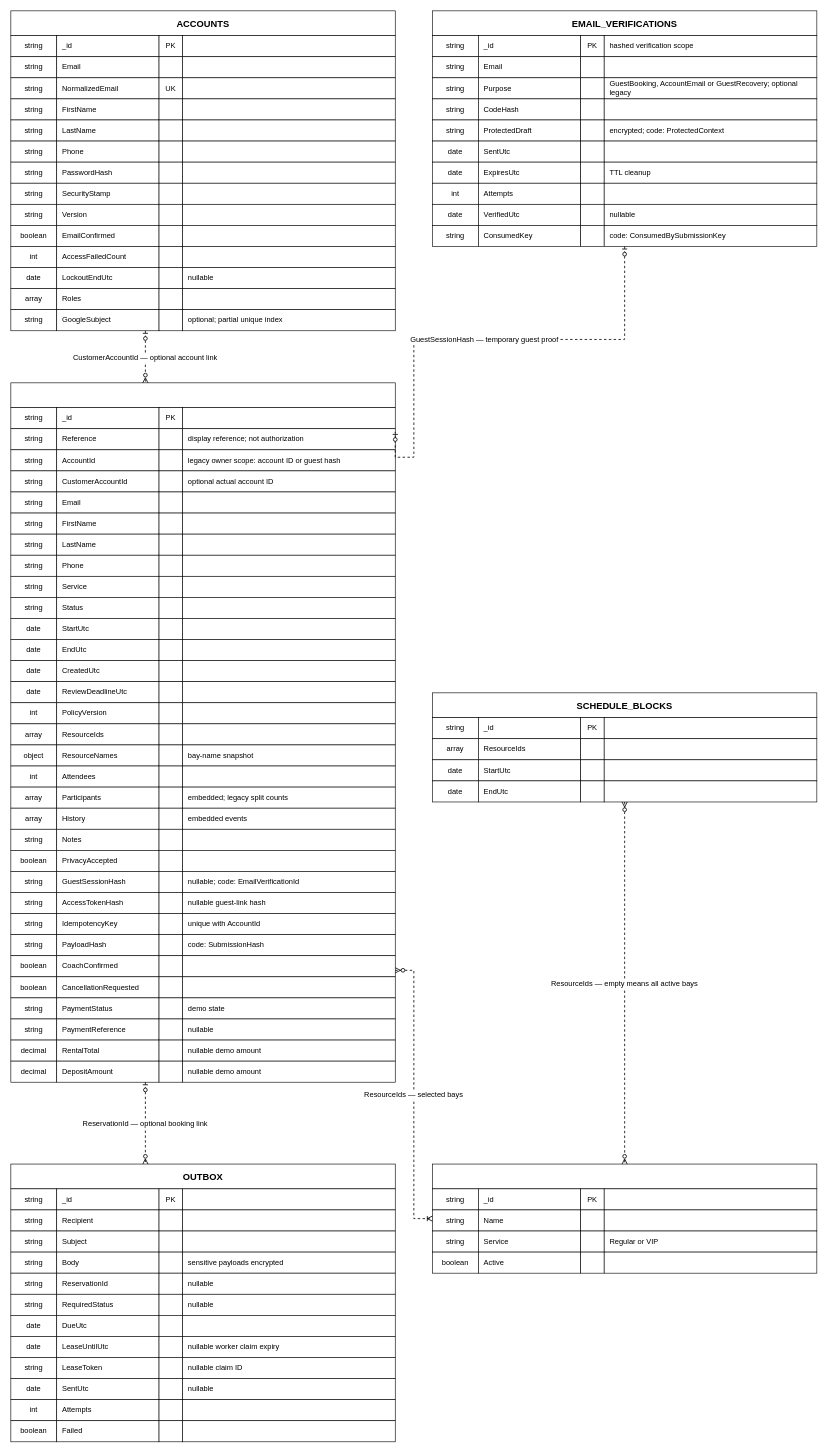
The diagram is 828 pixels wide and 1453 high, and some of its shapes have lost their labels. Here are the shapes that lost their labels. From the top down, the centre of each, then its label:
[202,395]: RESERVATIONS
[624,1176]: RESOURCES
